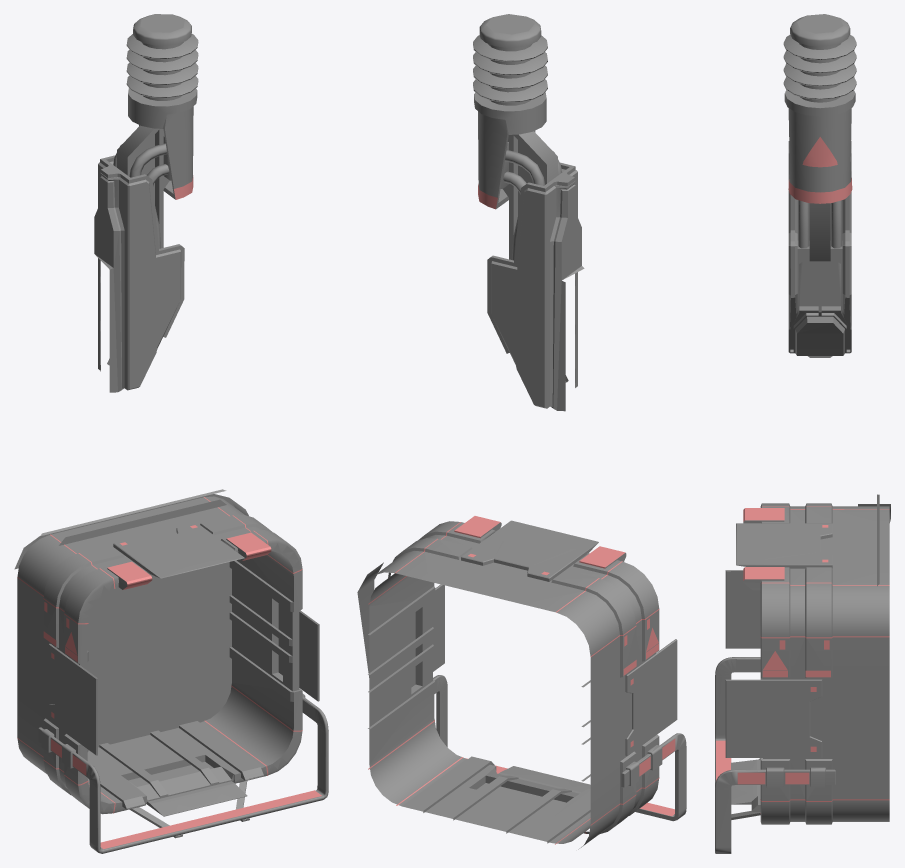
The model's file is Satisfactory io assets.glb.
3 views of the same model, side by side, from view 1: azimuth 30°, elevation 25°; view 2: azimuth 150°, elevation 25°; view 3: azimuth 270°, elevation 25° (orthographic). The views are drawn at different scales.
Visible parts, largest first — view 1: Item_port, Power_port; view 2: Item_port, Power_port; view 3: Item_port, Power_port.
Boxes of the visible parts, <box> form: Item_port: <box>14,489,328,853</box>; Power_port: <box>94,14,198,392</box>; Item_port: <box>357,516,686,849</box>; Power_port: <box>473,14,584,411</box>; Item_port: <box>715,494,890,853</box>; Power_port: <box>783,14,856,357</box>.
Size of the model in its own units: 2.18 by 6.81 by 1.39.
